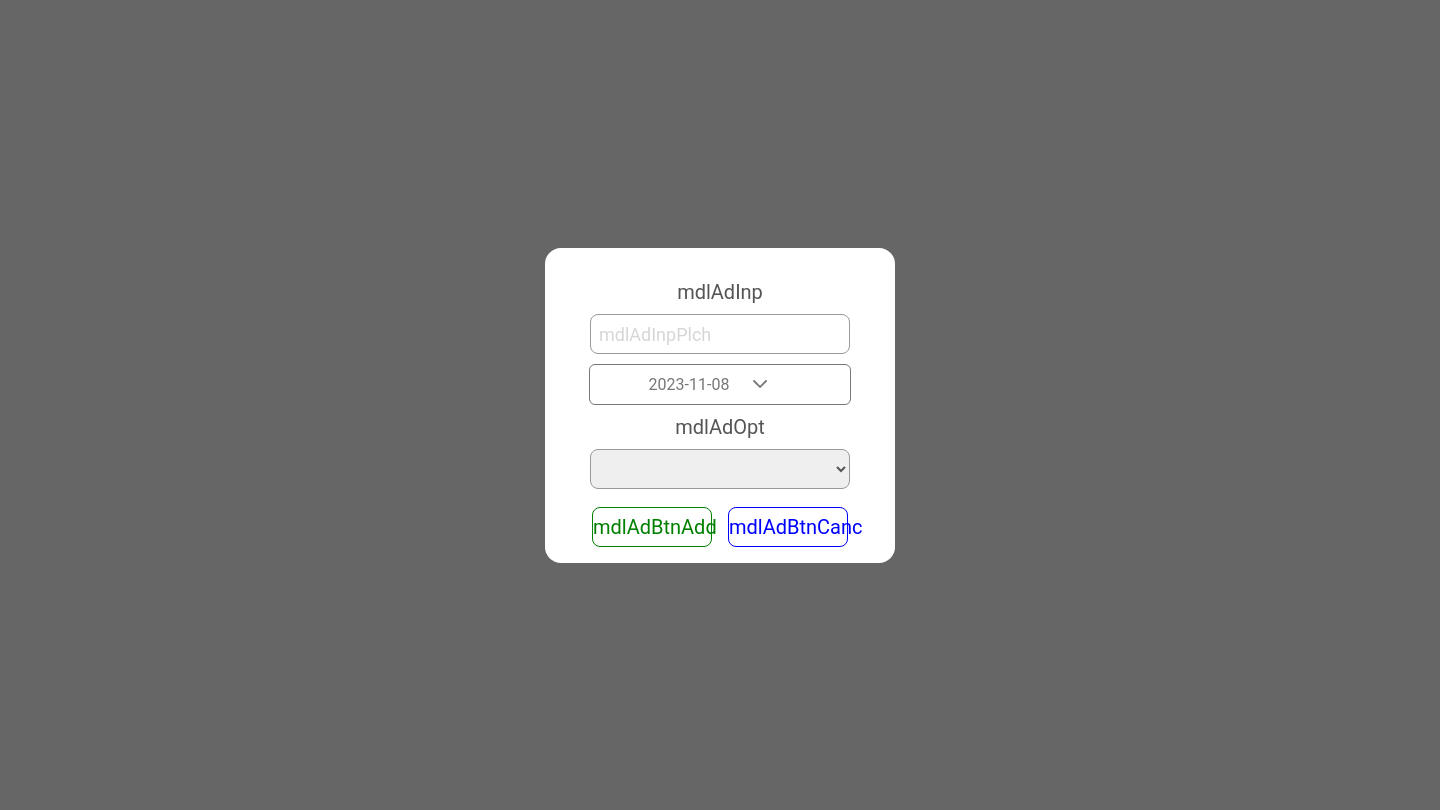
AddModal all › Handles errors
Click the button with test id "btnAddModal".
click(652, 526)  # box [592, 506, 712, 546]
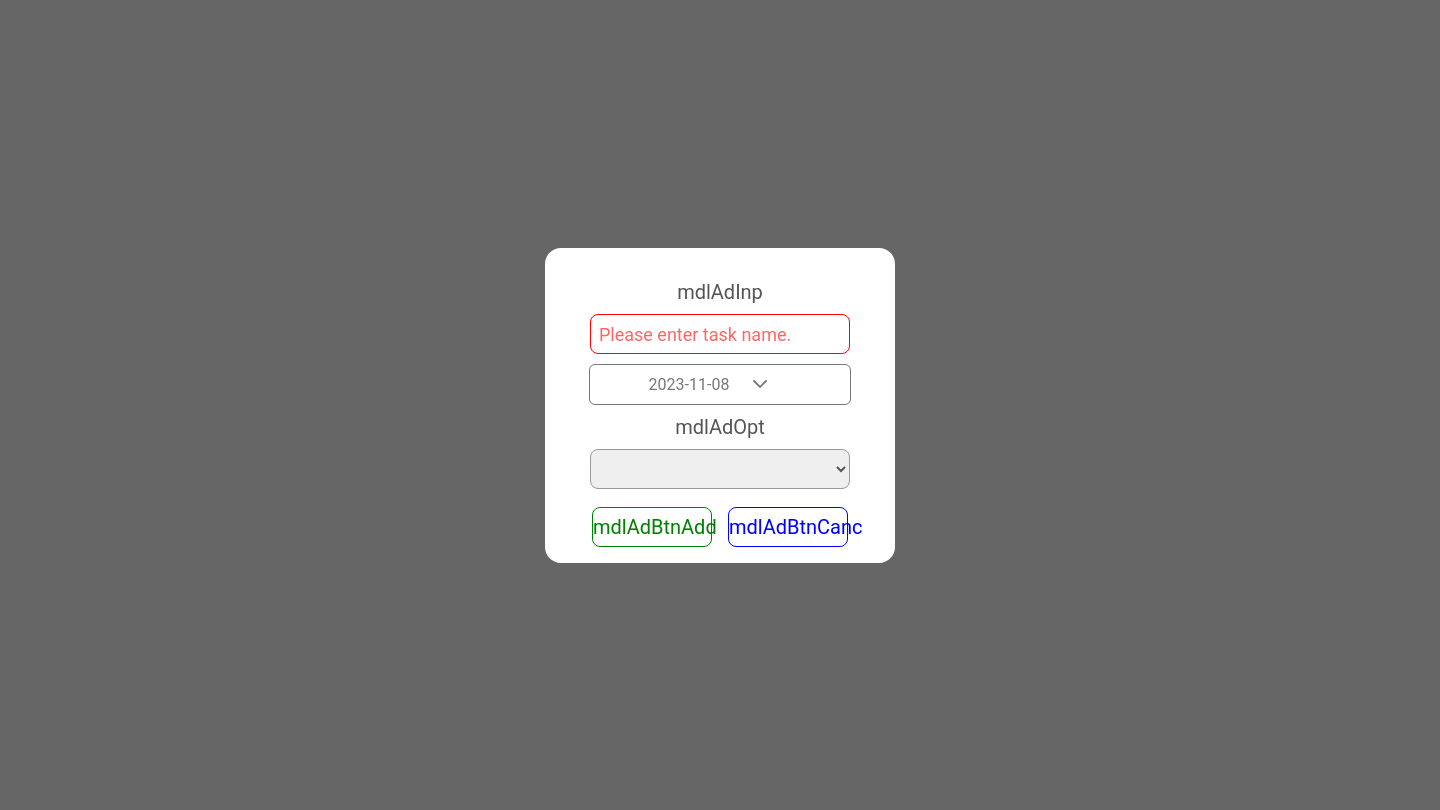
Check: the field with placeholder "Please enter task name." is shown, box [590, 314, 850, 354]
